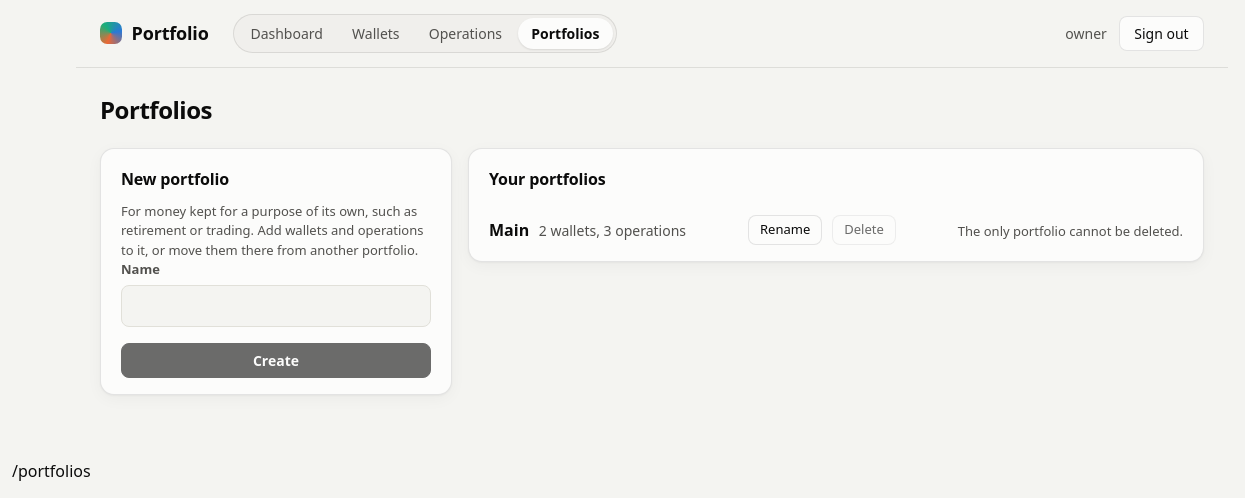
Test: the Portfolios page › cancels a rename without sending it
Click the button with aria-label "Rename Main" at (785, 230), box [748,215,822,245]
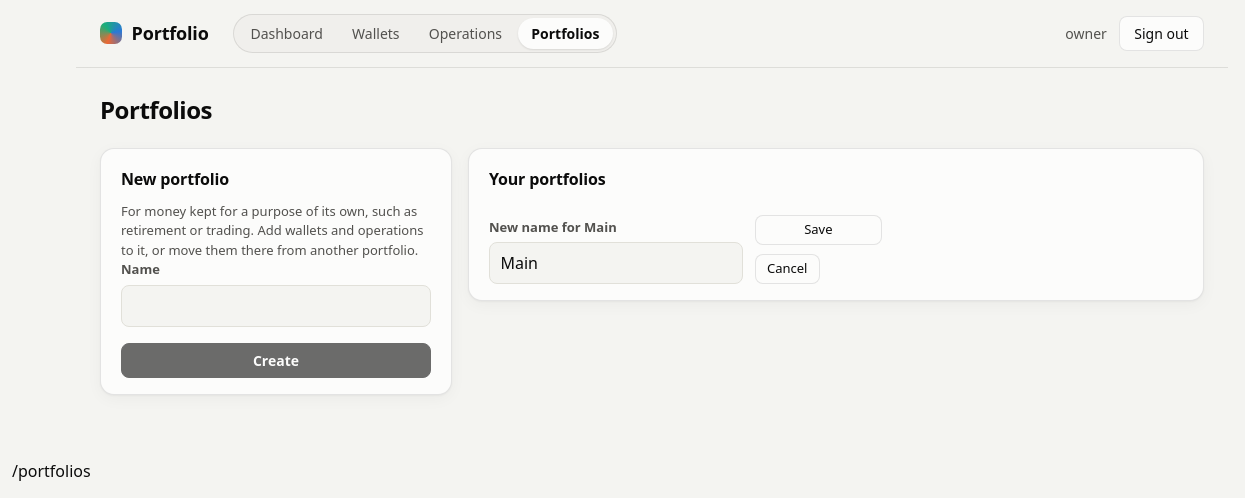
Type " fund" into the field labelled "New name for Main" at (616, 263), box [489,242,743,284]
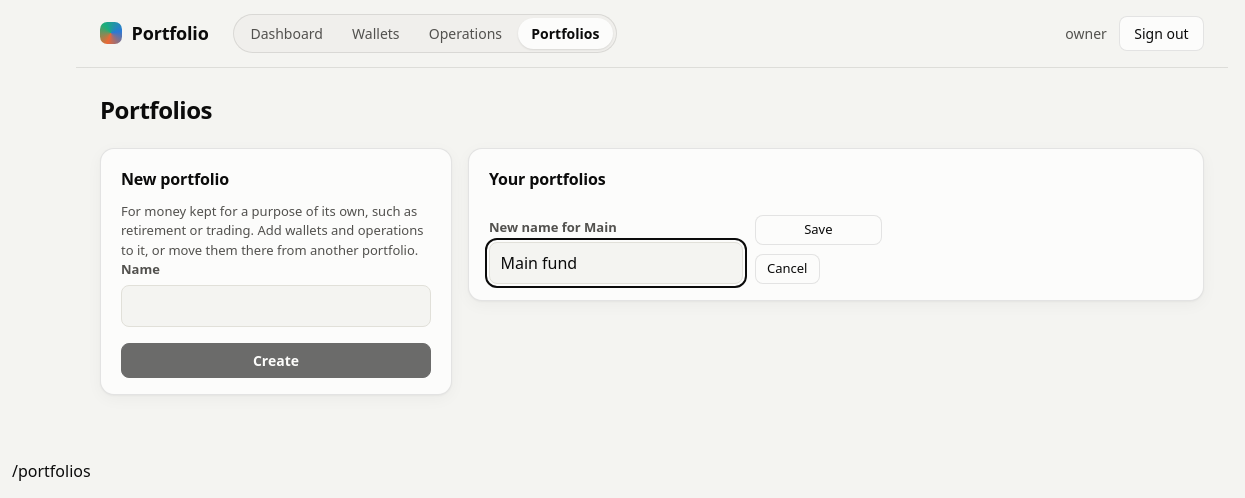
Click the button "Cancel" at (787, 269), box [755,254,820,284]
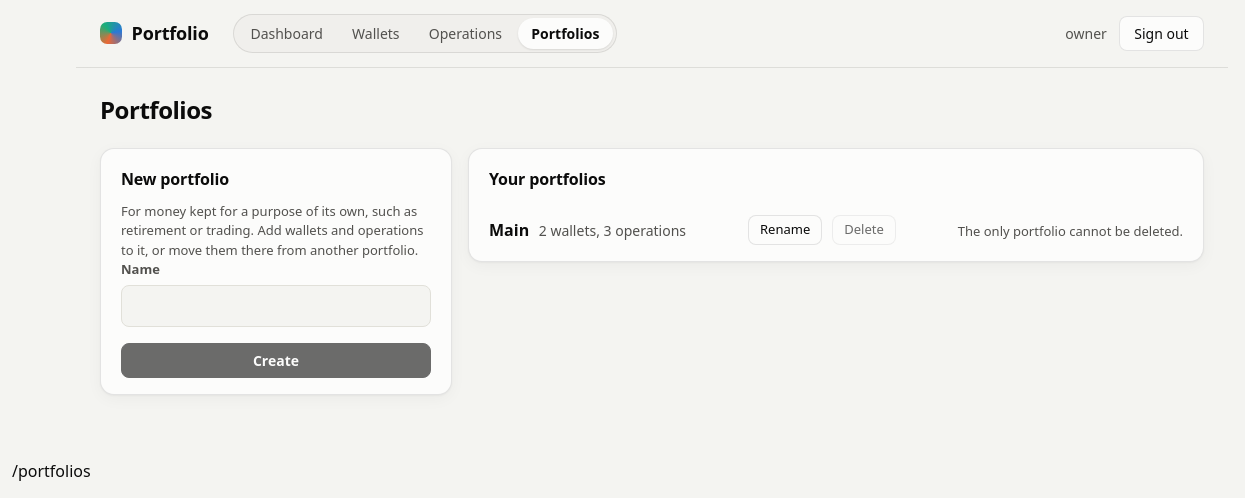
Click the button with aria-label "Rename Main" at (785, 230), box [748,215,822,245]
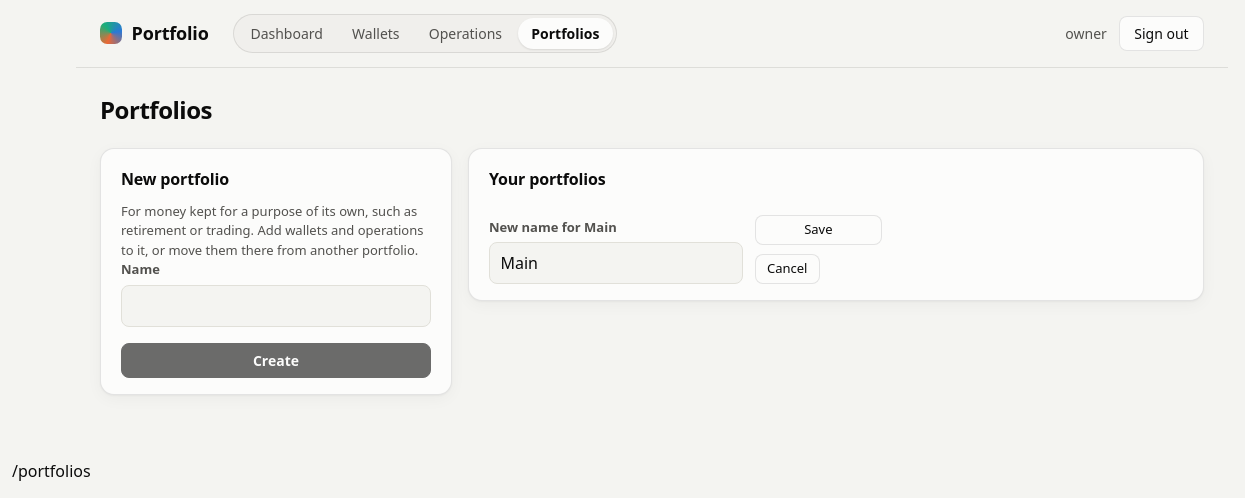
Expected: the field labelled "New name for Main" holds "Main", [489,242,743,284]
